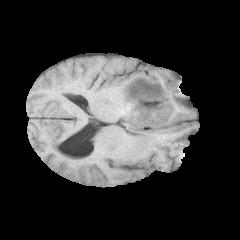glioma: (112, 72, 176, 135)
